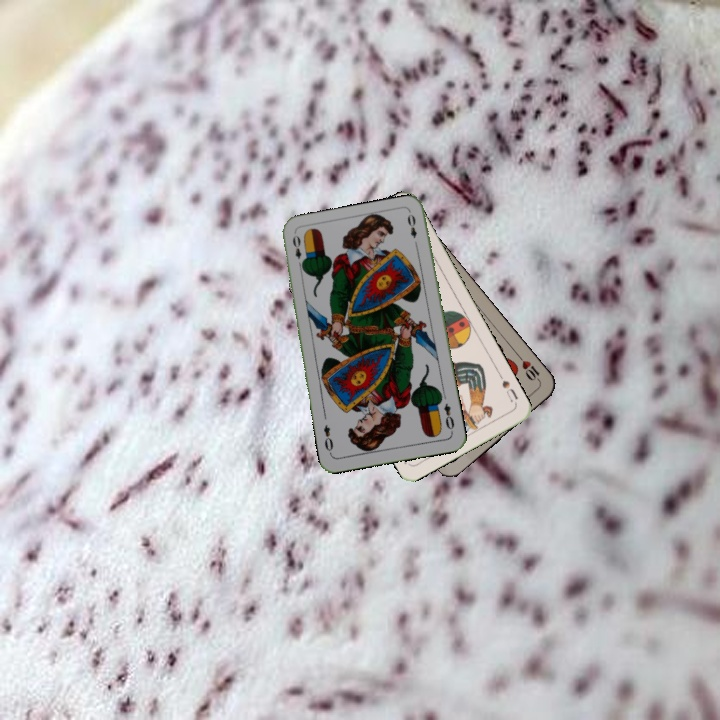EO: (288, 231, 307, 271), (440, 399, 457, 435)
H10: (514, 351, 544, 385)
SU: (494, 370, 521, 405)
